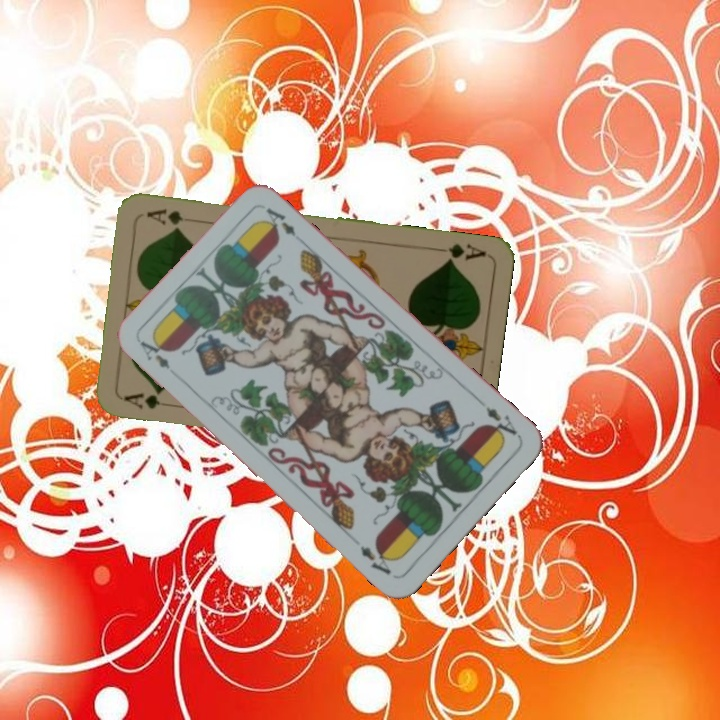EA: (481, 403, 520, 441), (135, 336, 173, 372)
GA: (429, 239, 489, 265), (117, 387, 164, 412)
